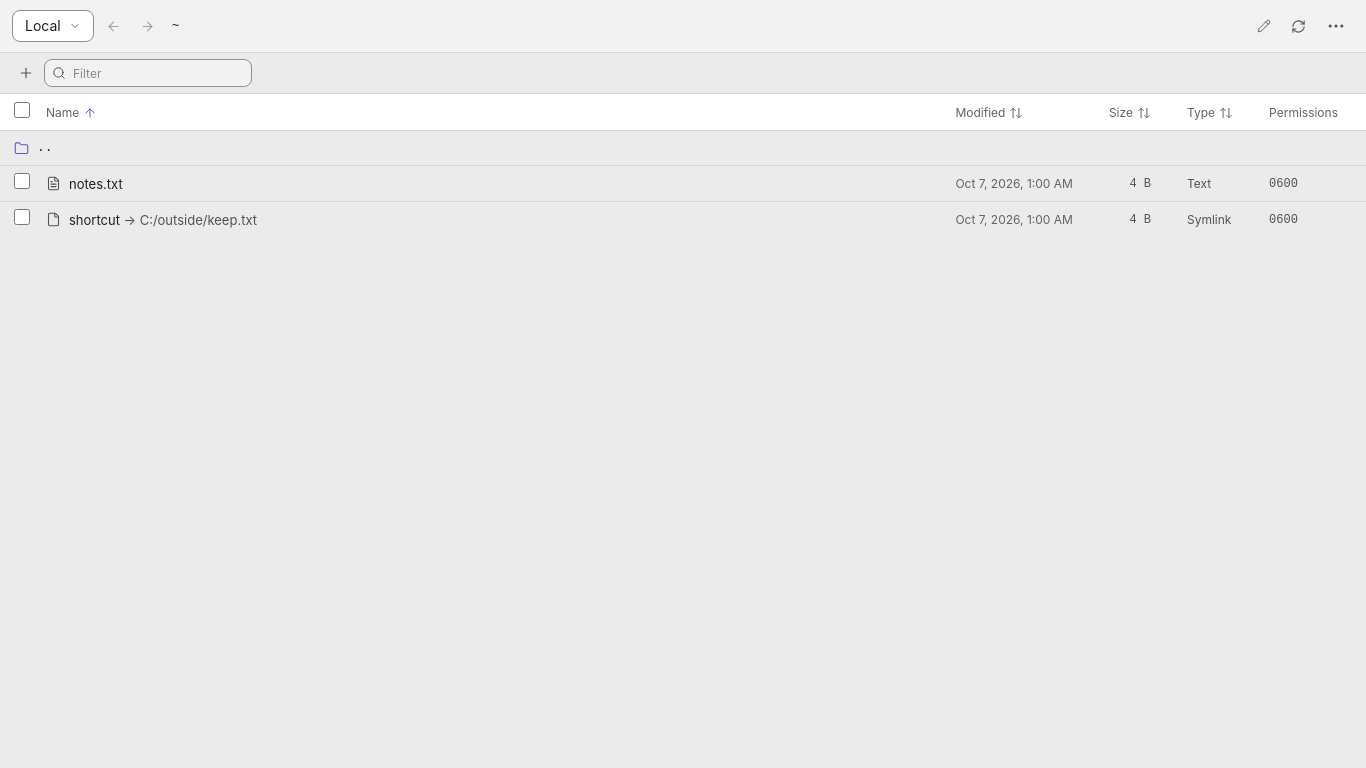
Test case: local entry actions through the shared pane › offers local editing, details, folder creation, rename and deletion without chmod
Expected: the button "notes.txt" is shown, [46,174,939,194]
Click the button named "Create or upload" at (26, 73), box [12,59,40,87]
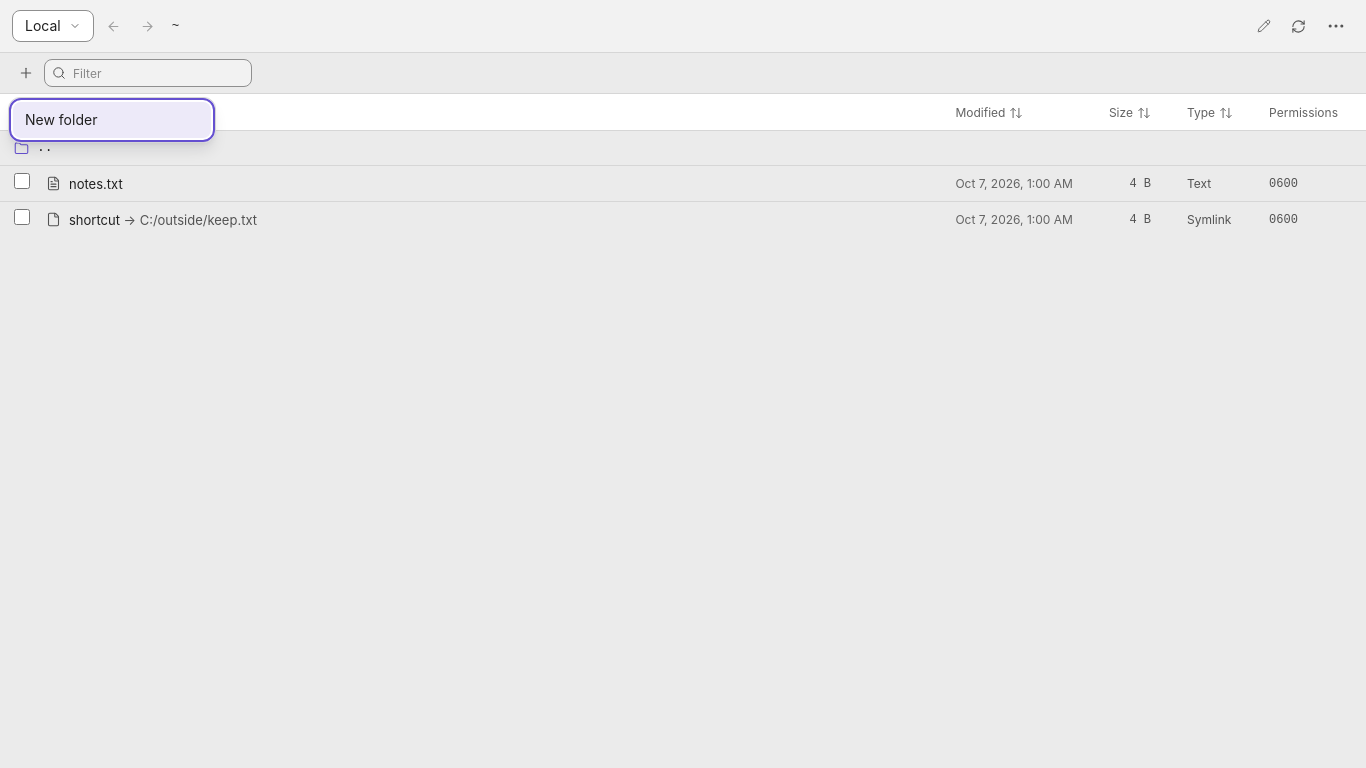
Result: the menu item "New folder" is shown
Click the menu item "New folder" at (112, 120), box [13,102,211,138]
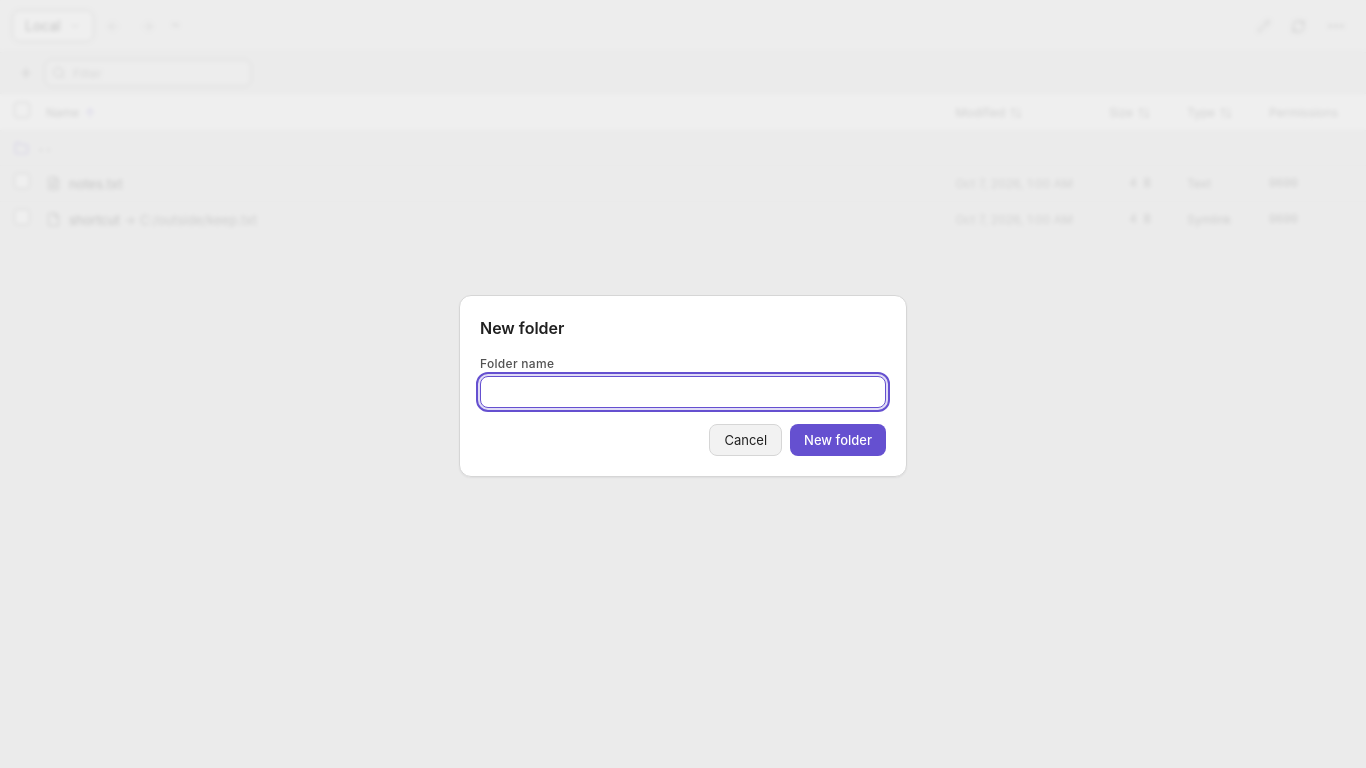
Type "documents" into the field at (683, 392), box [480,376,886,408]
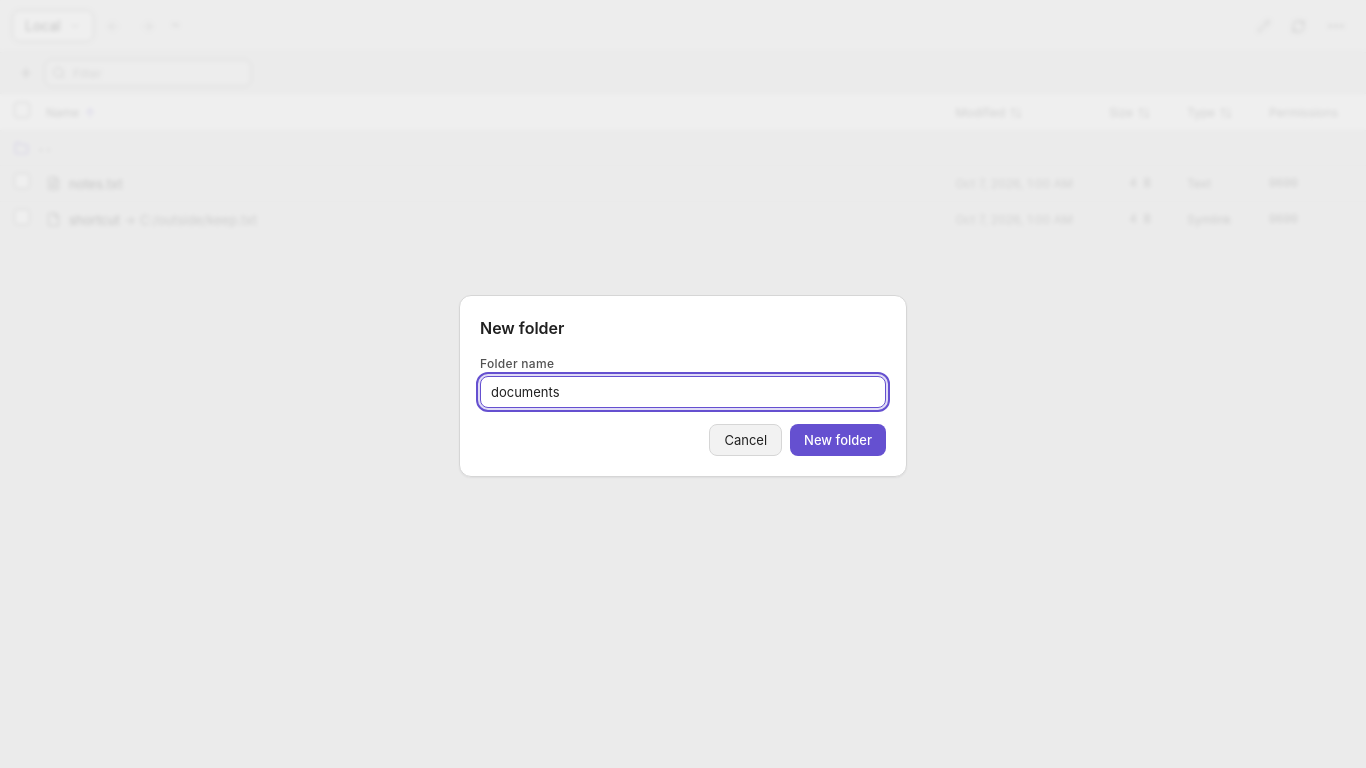
Click the button "New folder" at (838, 440), box [790,424,886,456]
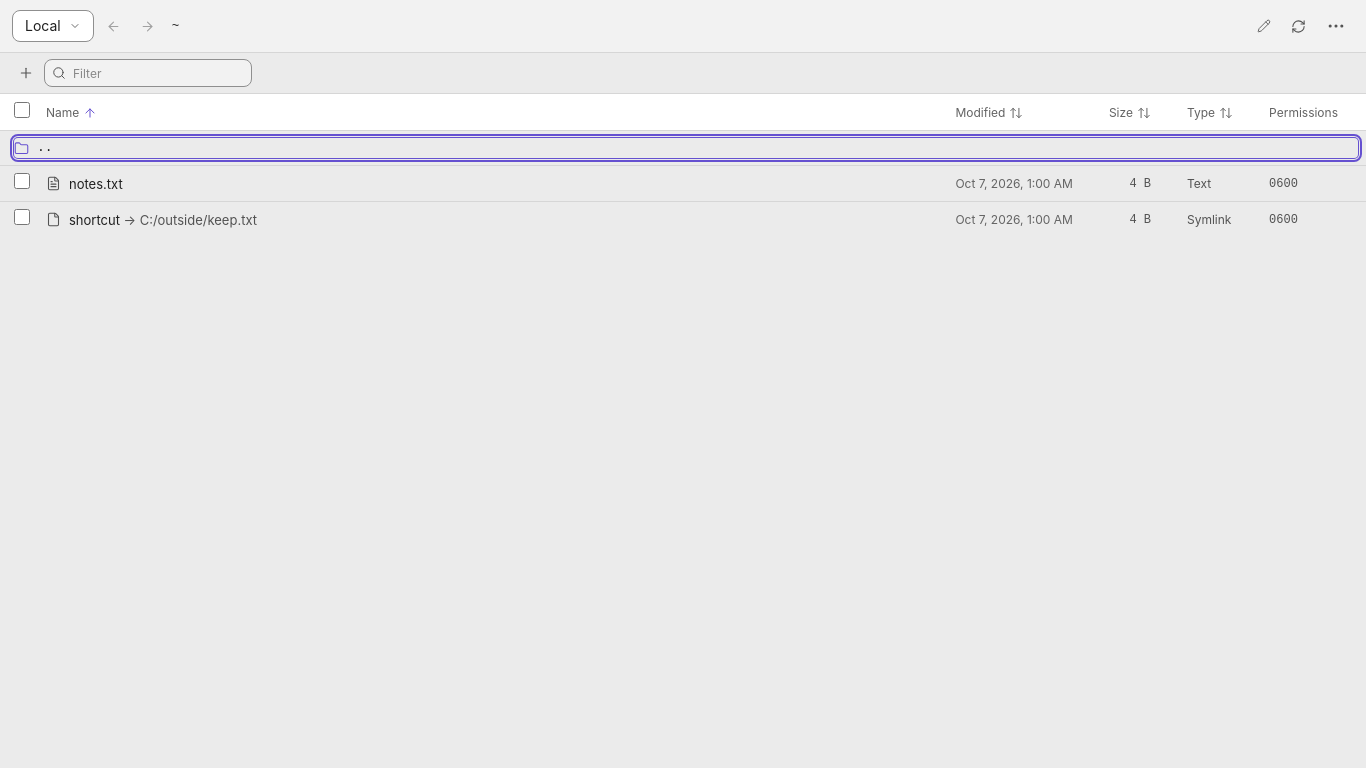
Click the button "notes.txt" at (96, 184), box [46,174,939,194]
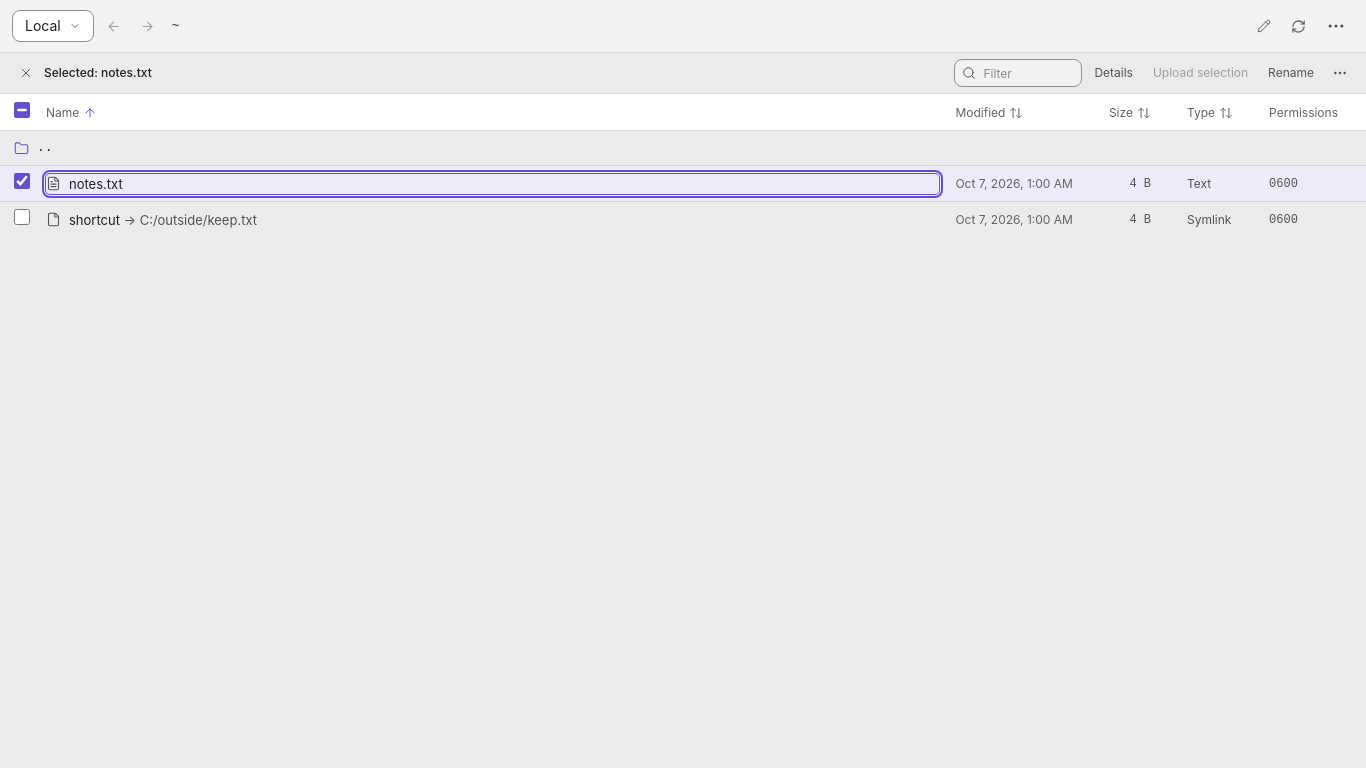
Click the button named "Actions for notes.txt" at (1340, 73), box [1326,59,1354,87]
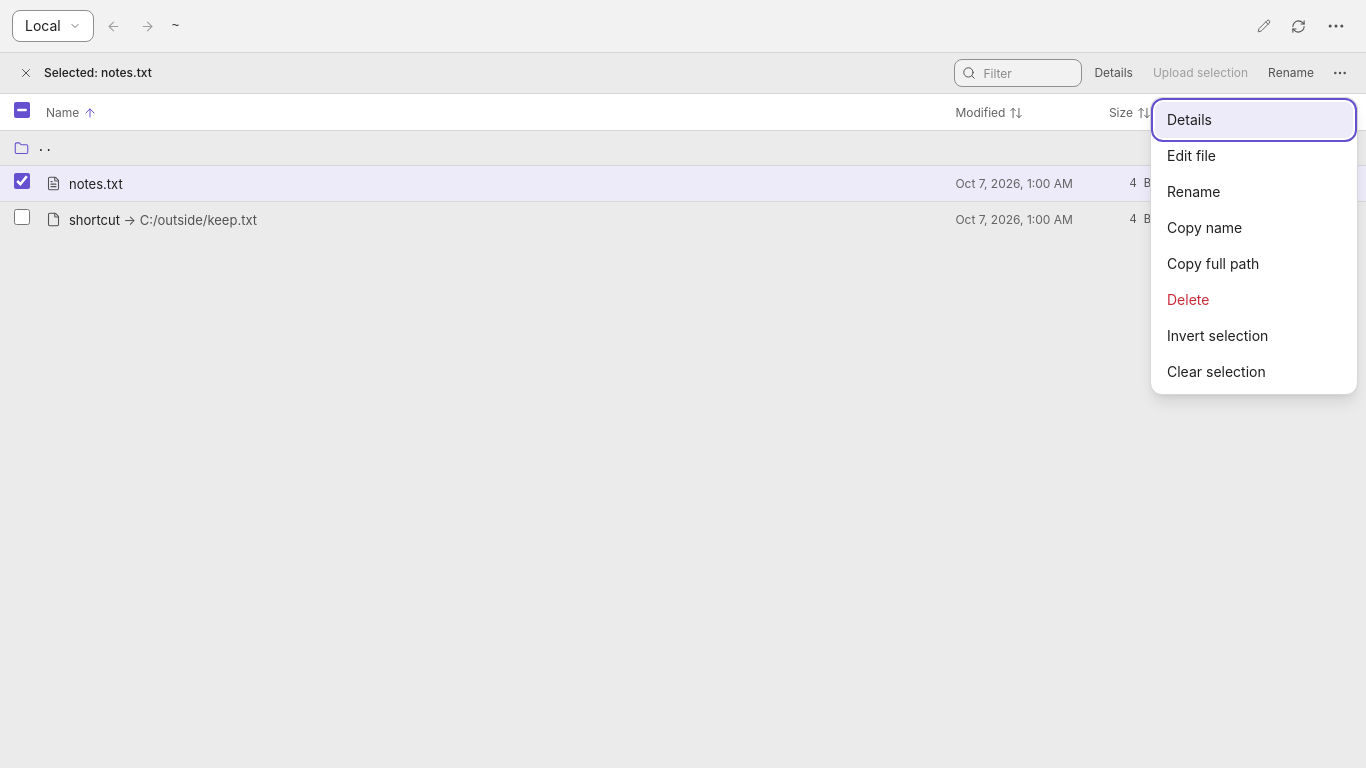
Result: the menu item "Rename" is shown at [1155,174,1353,210]
Result: the menu item "Delete" is shown at [1155,282,1353,318]
Result: the menu item "Edit file" is shown at [1155,138,1353,174]
